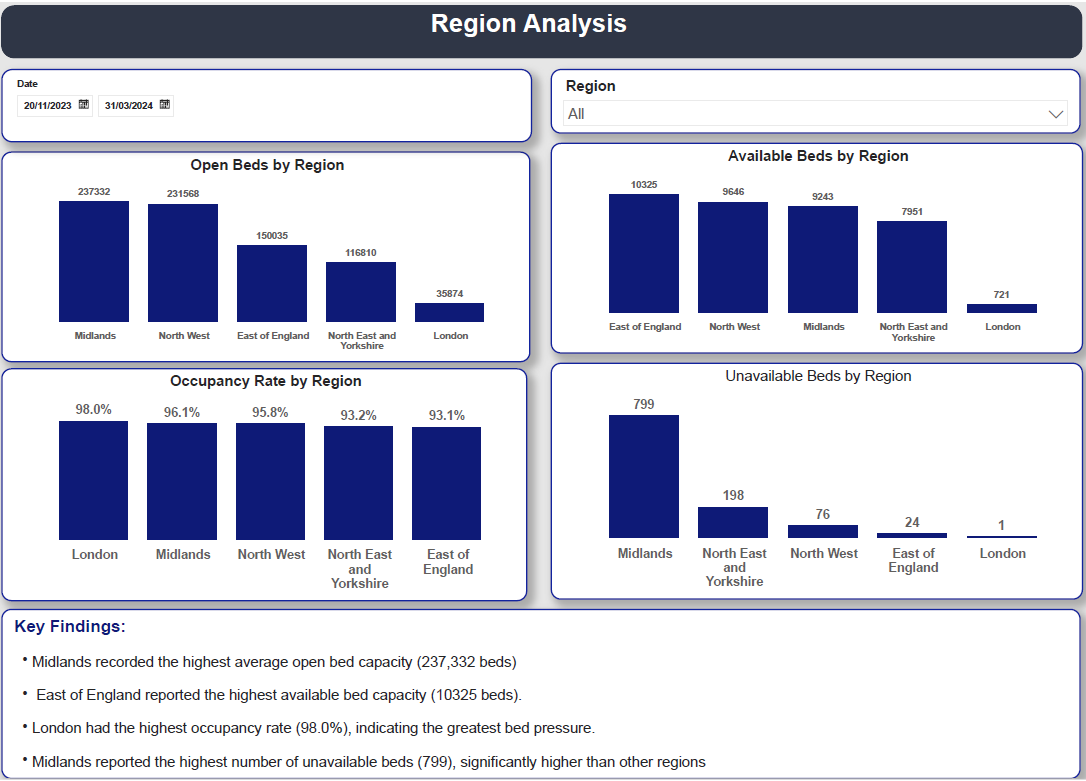

This screenshot's page, from the dashboard's own definition file:
{"tool":"powerbi","page":{"name":"Region Analysis","canvas":[1400,980],"ordinal":2},"visuals":[{"type":"clusteredColumnChart","fields":{"Category":["fct_Hospital_Beds.Region"],"Y":["Calculated Measures.Open Beds"]},"box":[24.4,188.3,666.8,265.8],"z":0},{"type":"shape","box":[23.8,4.3,1361.8,67.1],"z":1000},{"type":"textbox","box":[88.6,4.4,1200.6,66.5],"z":2000},{"type":"slicer","fields":{"Values":["fct_Hospital_Beds.Date"]},"box":[24.4,84.2,669,93],"z":3000},{"type":"slicer","fields":{"Values":["fct_Hospital_Beds.Region"]},"box":[715.5,84.2,669,82],"z":4000},{"type":"clusteredColumnChart","fields":{"Category":["fct_Hospital_Beds.Region"],"Y":["Calculated Measures.Available Beds"]},"box":[715.5,177.2,671.2,265.8],"z":5000},{"type":"clusteredColumnChart","fields":{"Category":["fct_Hospital_Beds.Region"],"Y":["Calculated Measures.Occupancy Rate"]},"box":[24.4,460.8,662.3,294.6],"z":6000},{"type":"clusteredColumnChart","fields":{"Category":["fct_Hospital_Beds.Region"],"Y":["Calculated Measures.Unavailable Beds"]},"box":[715.5,454.1,671.2,299.1],"z":7000},{"type":"textbox","box":[24.4,764.2,1360.1,214.9],"z":8000}]}

Visuals, with their boxes in screenshot pixels (x1, y1, x2, y2), scaled from the page's 1400x980 canvas onto the 1086x781 screenshot:
clusteredColumnChart - fct_Hospital_Beds.Region x Calculated Measures.Open Beds: bbox(19, 150, 536, 362)
shape: bbox(18, 3, 1075, 57)
textbox: bbox(69, 4, 1000, 57)
slicer - fct_Hospital_Beds.Date: bbox(19, 67, 538, 141)
slicer - fct_Hospital_Beds.Region: bbox(555, 67, 1074, 132)
clusteredColumnChart - fct_Hospital_Beds.Region x Calculated Measures.Available Beds: bbox(555, 141, 1076, 353)
clusteredColumnChart - fct_Hospital_Beds.Region x Calculated Measures.Occupancy Rate: bbox(19, 367, 533, 602)
clusteredColumnChart - fct_Hospital_Beds.Region x Calculated Measures.Unavailable Beds: bbox(555, 362, 1076, 600)
textbox: bbox(19, 609, 1074, 780)
